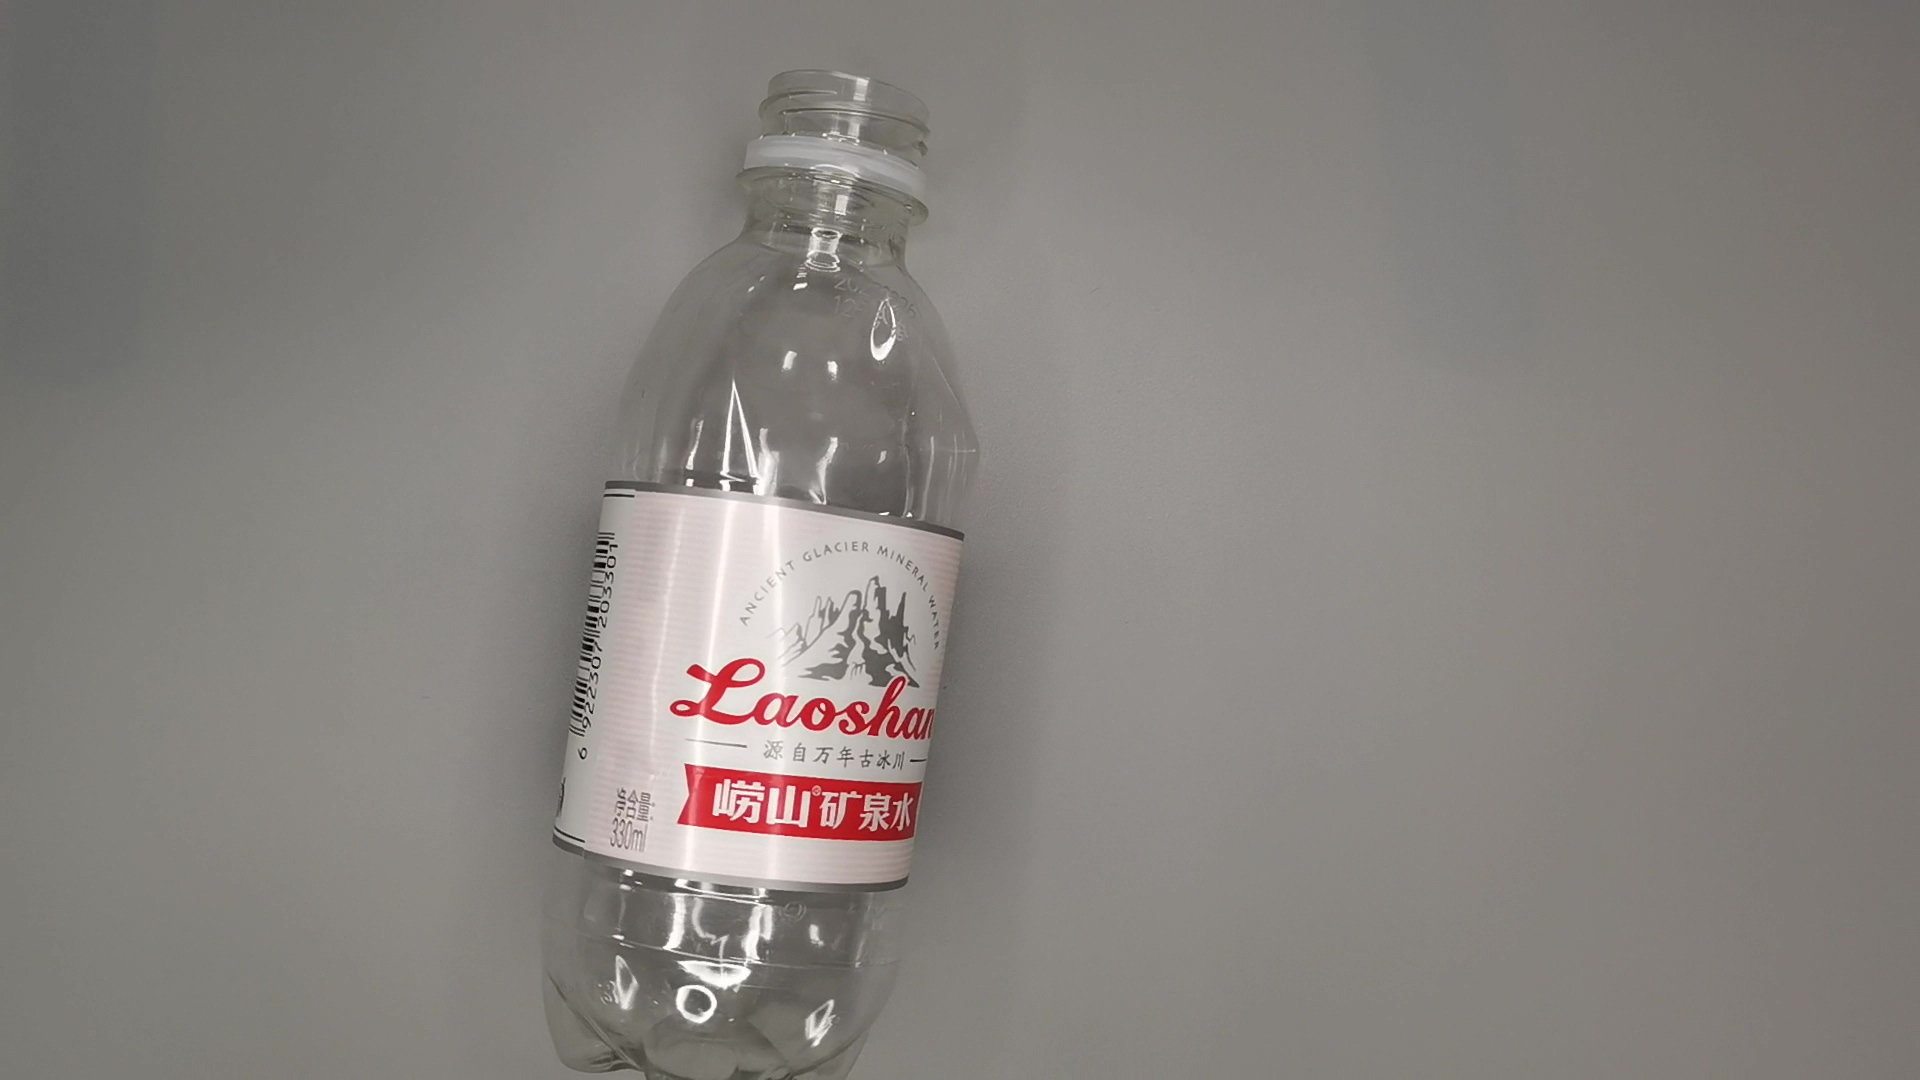bottle: (531, 63, 989, 1080)
